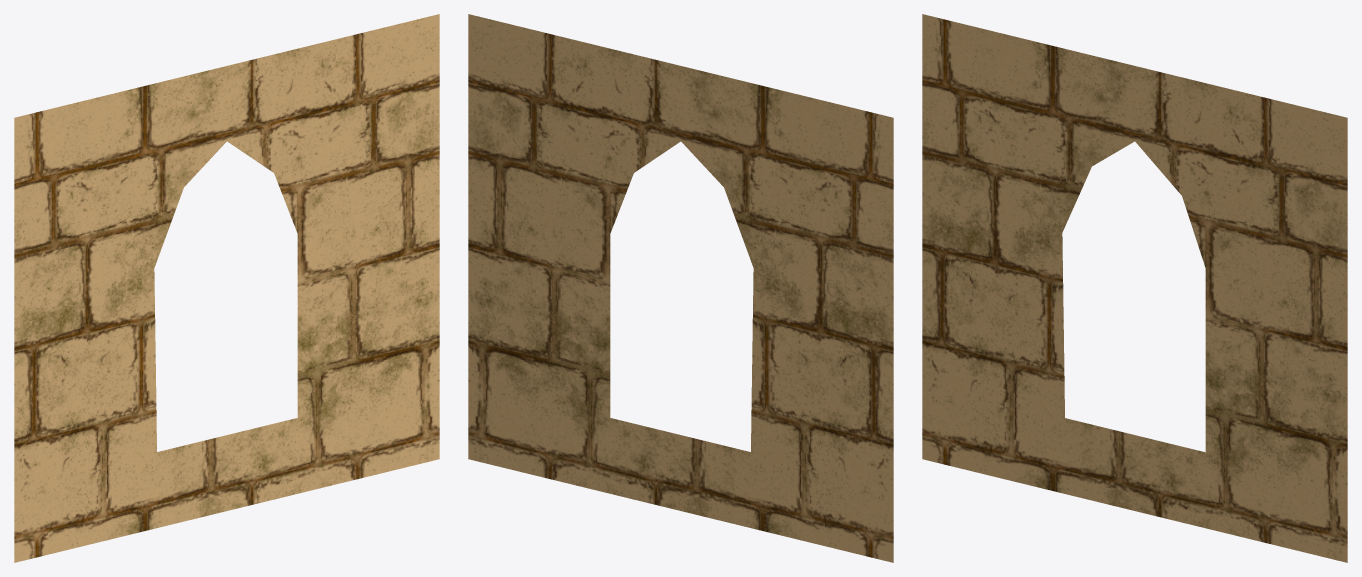
File: SM_ParedVentana1.fbx
The picture shows the model from 3 angles, left to right: view 1: azimuth 30°, elevation 25°; view 2: azimuth 150°, elevation 25°; view 3: azimuth 330°, elevation 25°; orthographic projection.
Parts seen in each view (by area): view 1: SM_ParedVentana1; view 2: SM_ParedVentana1; view 3: SM_ParedVentana1.
Boxes of the visible parts, x1,y1,x2,y2 form: SM_ParedVentana1: (14, 14, 439, 562); SM_ParedVentana1: (468, 14, 893, 562); SM_ParedVentana1: (922, 14, 1347, 562).
Bounding box in the file's own units: 300 × 300 × 5.93e-05.
